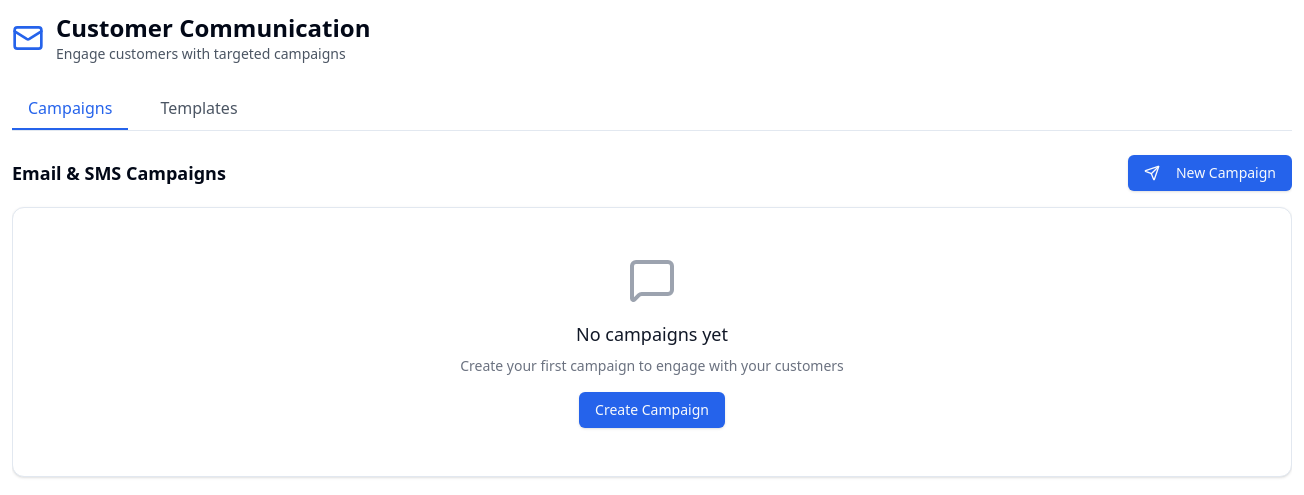
Test: CustomerCommunication › switches to templates tab
Click the button with test id "templates-tab" at (199, 109), box [144, 88, 254, 130]
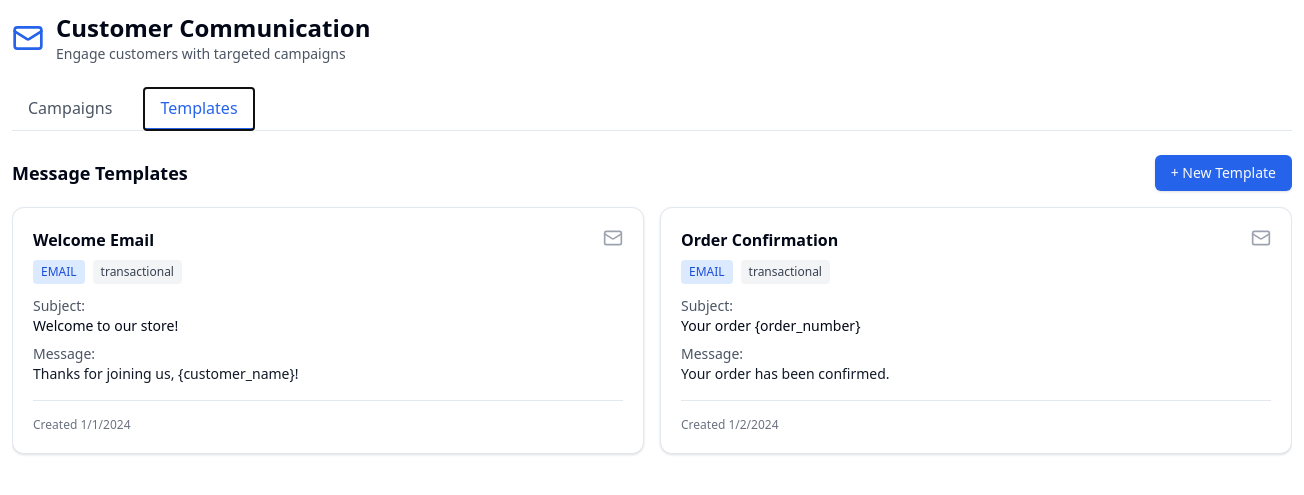
Expected: the heading "Message Templates" is shown, [12, 159, 188, 187]
Expected: the heading "Welcome Email" is shown, [33, 229, 154, 251]
